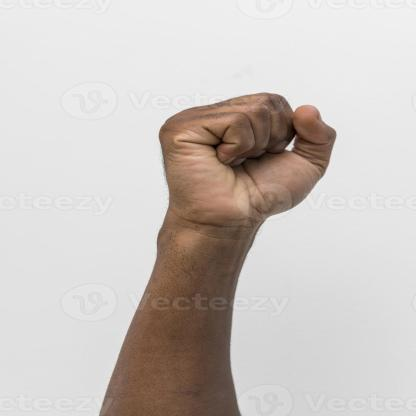fist: (148, 89, 328, 225)
